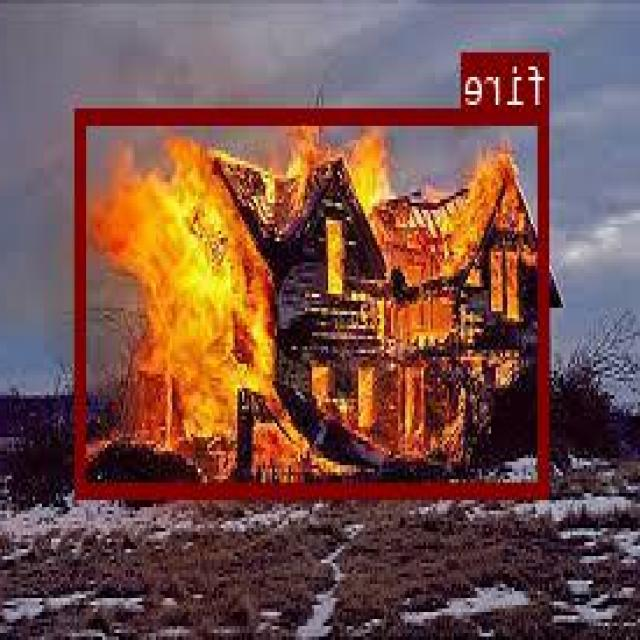fire: (79, 107, 550, 493)
